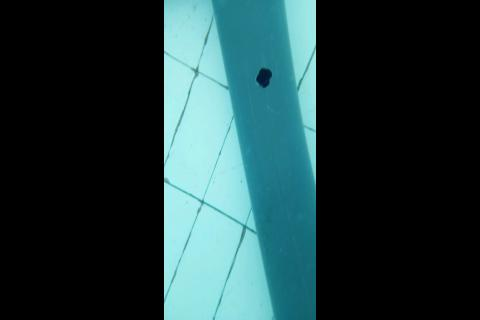kebocoran: (254, 66, 272, 88)
